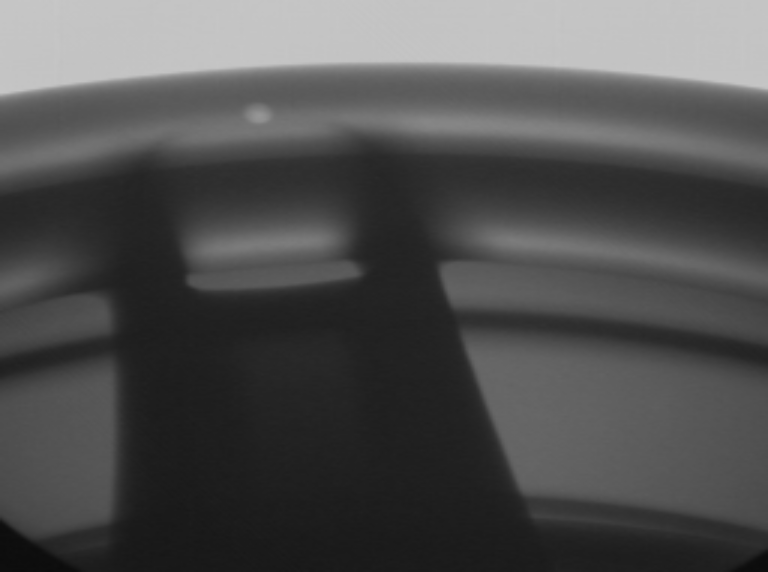defect: (231, 92, 291, 127)
